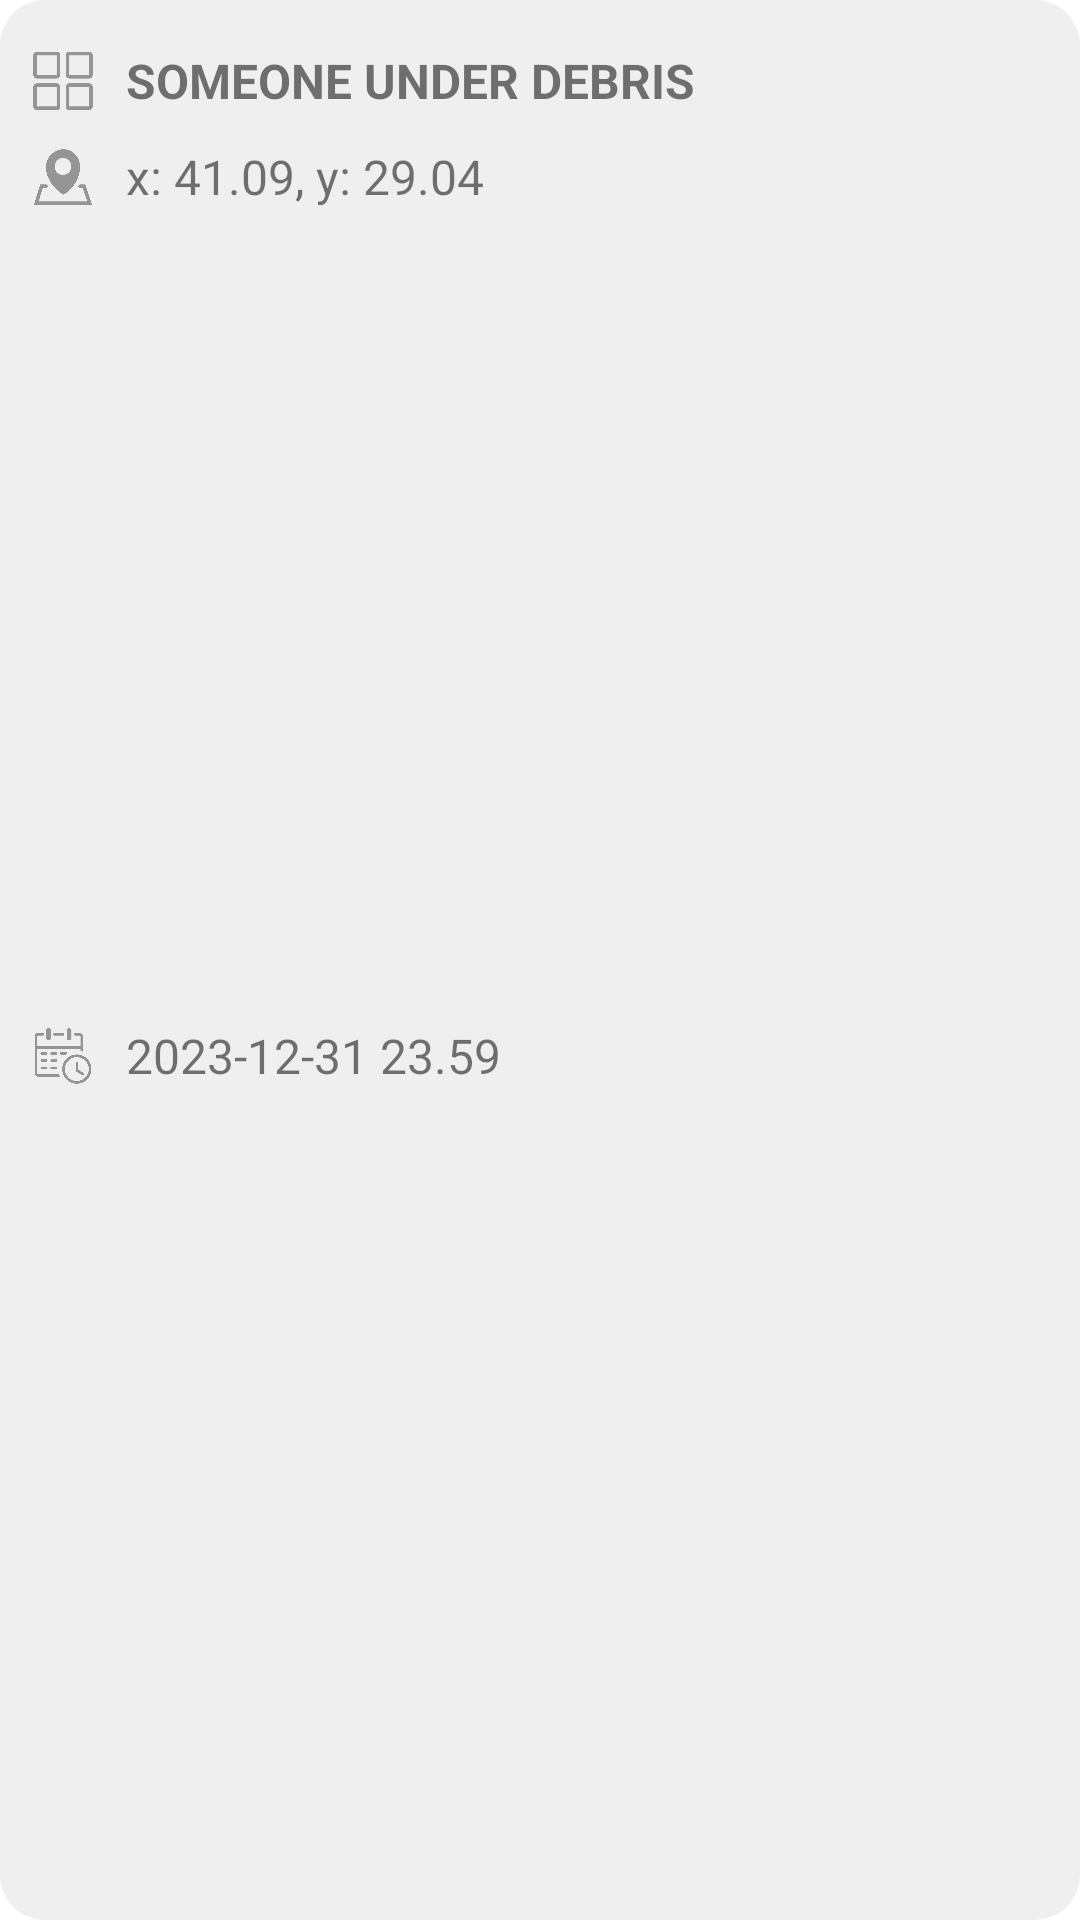

Screen size 1080w x 1920h. Icon name, then its center in pixels as (x=x, y=y):
recyc category: (x=63, y=81)
recyc date time: (x=63, y=1056)
recyc location: (x=63, y=177)
